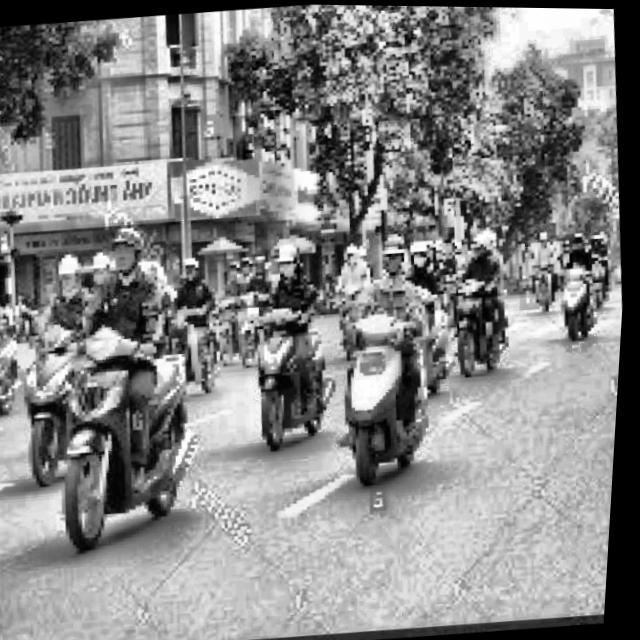motorcycle: (43, 292, 213, 554), (337, 286, 450, 485), (245, 292, 347, 453), (6, 322, 97, 489), (446, 266, 516, 373), (174, 288, 236, 392), (0, 289, 44, 412), (556, 253, 606, 341)
